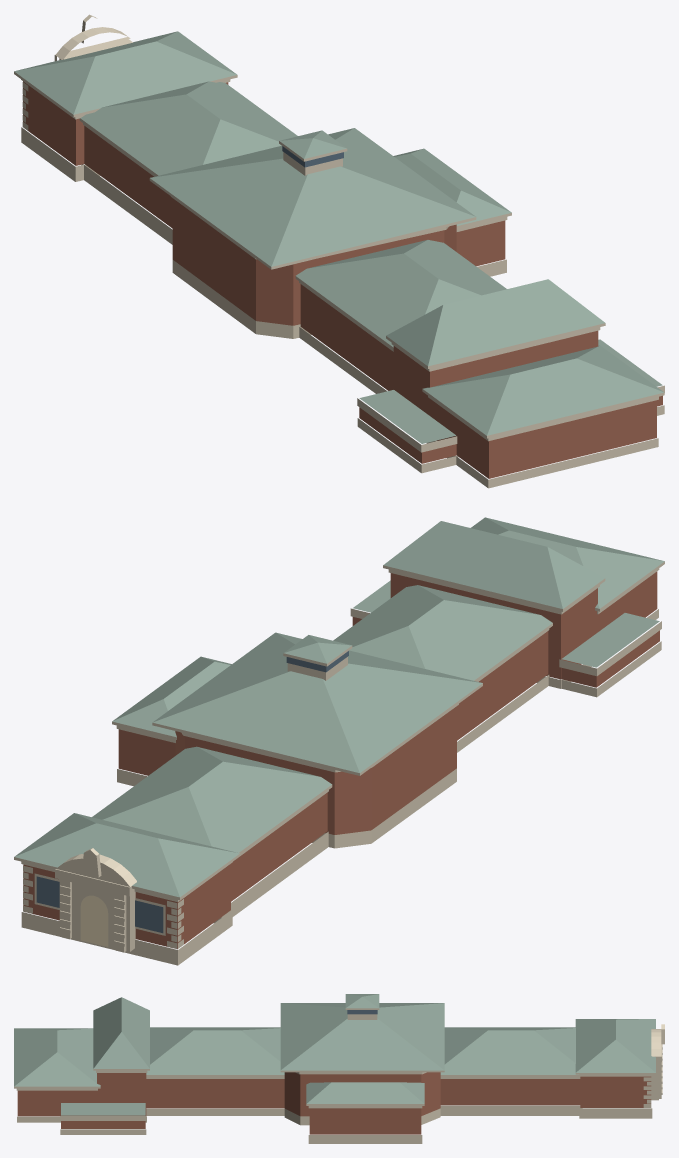
The model's file is det-belle-isle-aquarium.glb.
3 views of the same model, one above another, from view 1: azimuth 30°, elevation 25°; view 2: azimuth 150°, elevation 25°; view 3: azimuth 270°, elevation 25° (orthographic). The views are drawn at different scales.
Visible parts, largest first — view 1: Belle Isle Aquarium; view 2: Belle Isle Aquarium; view 3: Belle Isle Aquarium.
Boxes of the visible parts, <box> form: Belle Isle Aquarium: <box>14,14,664,488</box>; Belle Isle Aquarium: <box>14,517,664,965</box>; Belle Isle Aquarium: <box>14,994,664,1143</box>.
Size of the model in its own units: 25.97 by 13 by 79.5.
